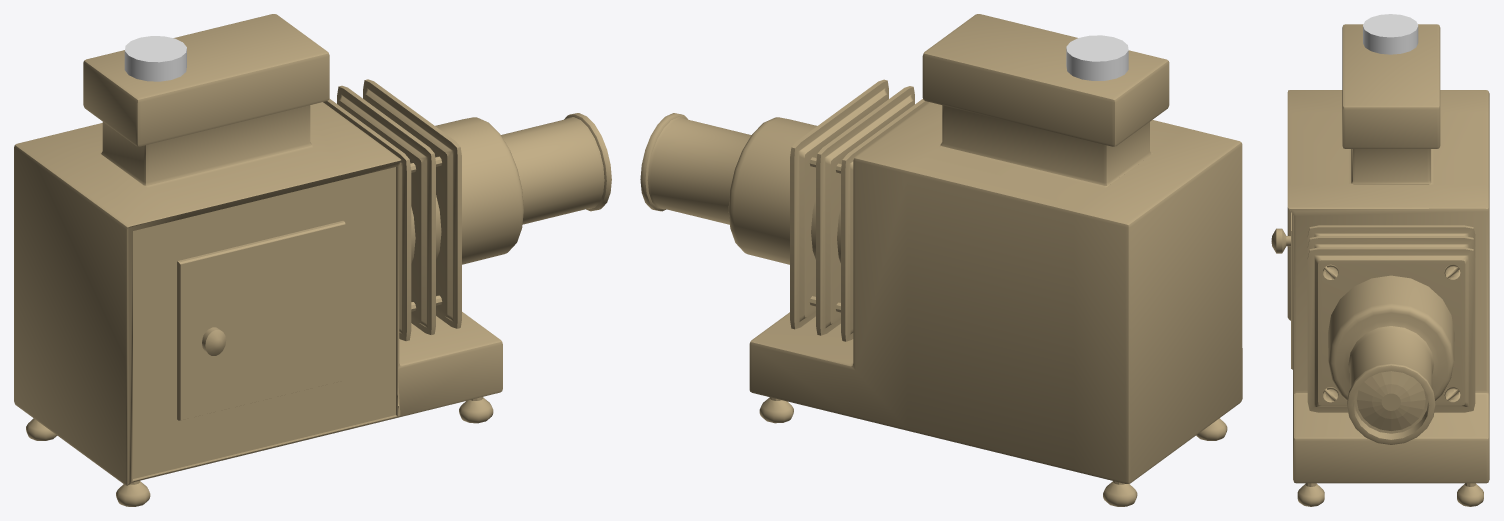
File: Proyetor_PuzzleFinal.fbx
3 views of the same model, side by side, from view 1: azimuth 30°, elevation 25°; view 2: azimuth 150°, elevation 25°; view 3: azimuth 270°, elevation 25° (orthographic). The views are drawn at different scales.
Visible parts, largest first — view 1: Caja, Rueda; view 2: Caja, Rueda; view 3: Caja, Rueda.
Boxes of the visible parts, <box> form: Caja: <box>14,14,611,506</box>; Rueda: <box>124,36,186,81</box>; Caja: <box>640,14,1242,506</box>; Rueda: <box>1066,35,1128,80</box>; Caja: <box>1271,24,1489,506</box>; Rueda: <box>1363,14,1418,54</box>.
Bounding box in the file's own units: 32.78 × 24.31 × 13.46.
